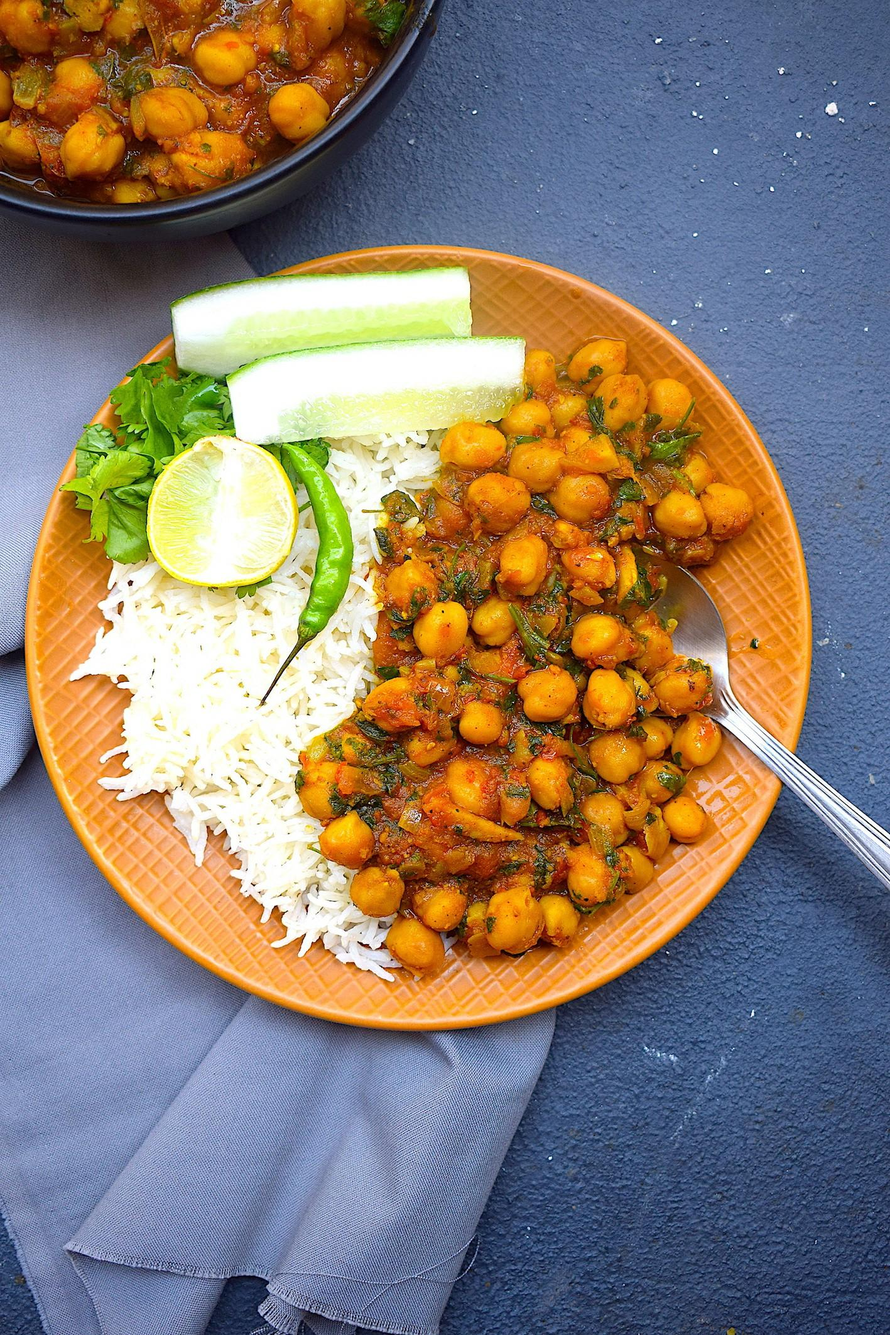Chole: (296, 335, 757, 984), (0, 0, 428, 211)
rice: (67, 438, 435, 979)
